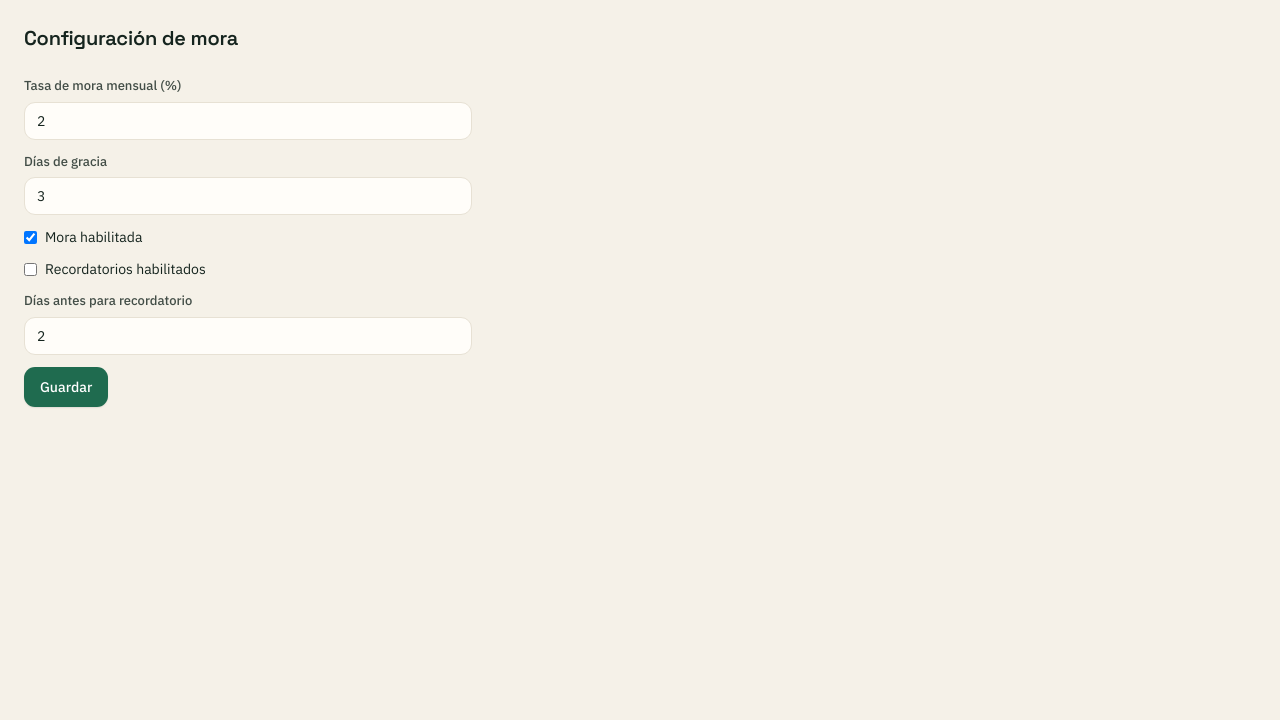
Test: ConfiguracionMoraPage › carga la config y permite guardar
This screenshot has width=1280, height=720.
Expected: the number field labelled "Tasa de mora mensual (%)" holds "2", [24,102,472,140]
Step 1. Replace the text in the number field labelled "Días de gracia" with "5" → (248, 196), box [24,177,472,215]
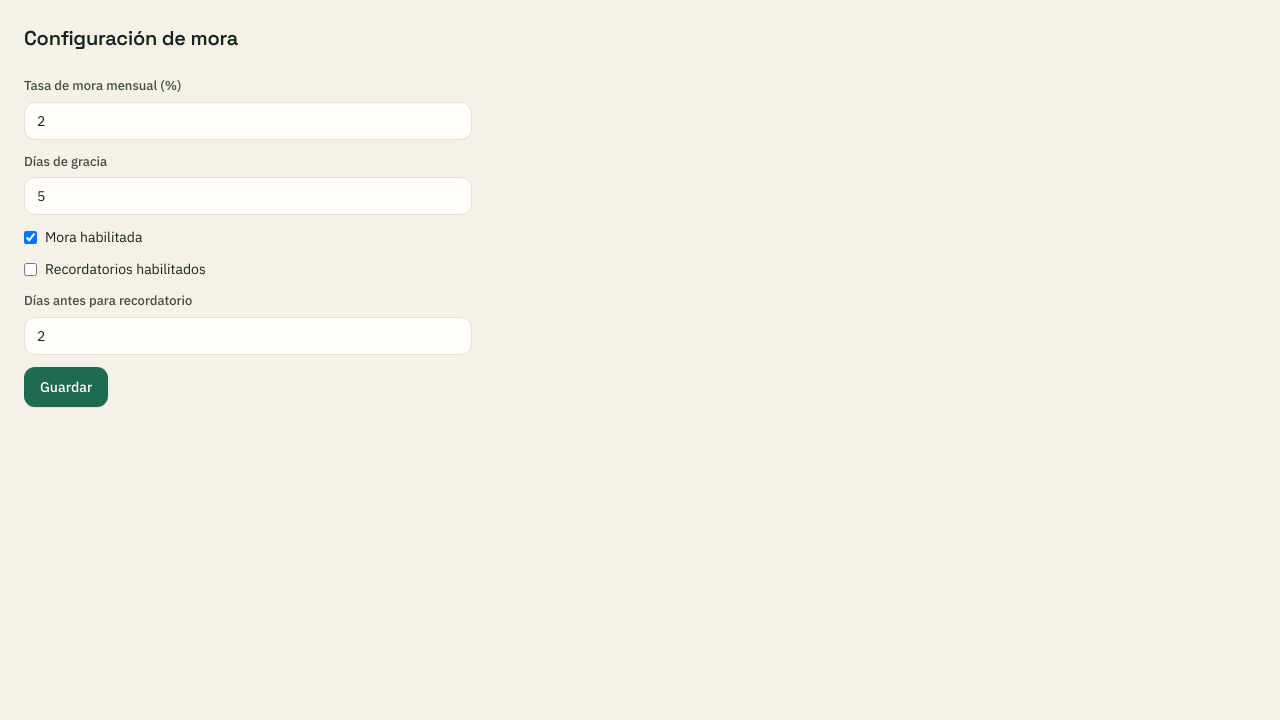
Step 2. Click the button "Guardar" → (66, 386), box [24,366,108,406]
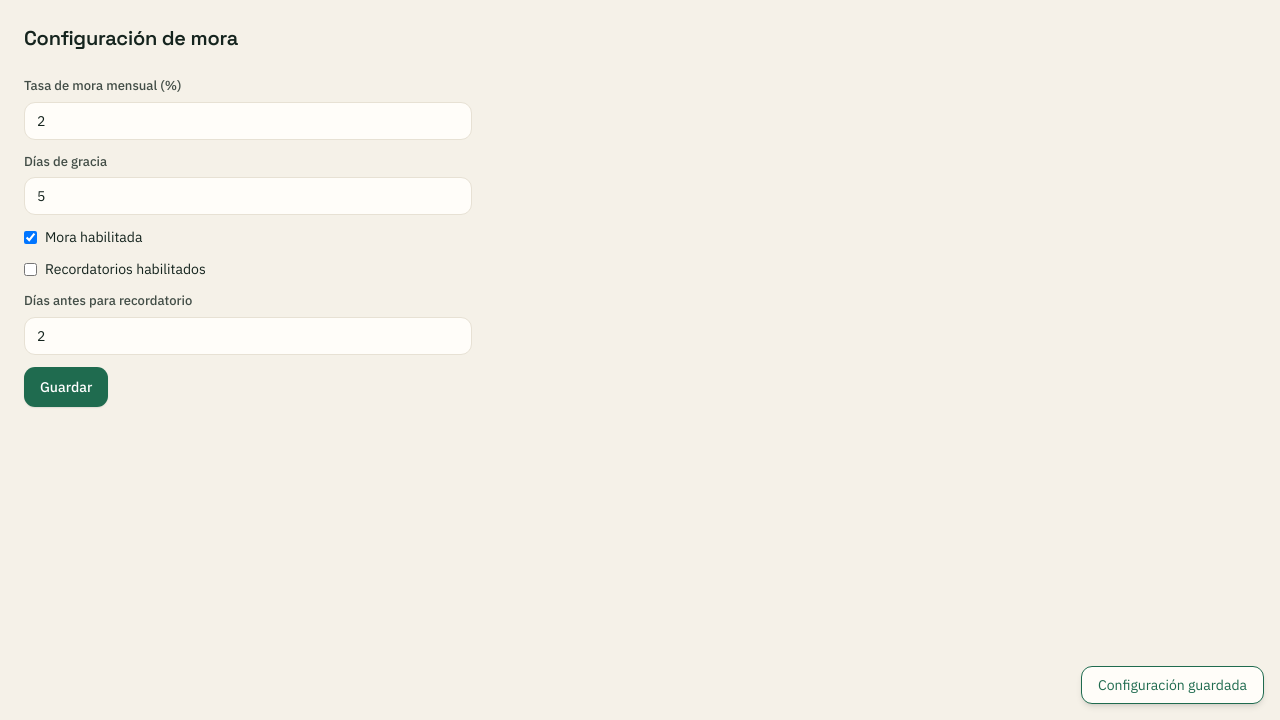
Expected: the text "Configuración guardada" is shown, [1081,666,1264,704]
